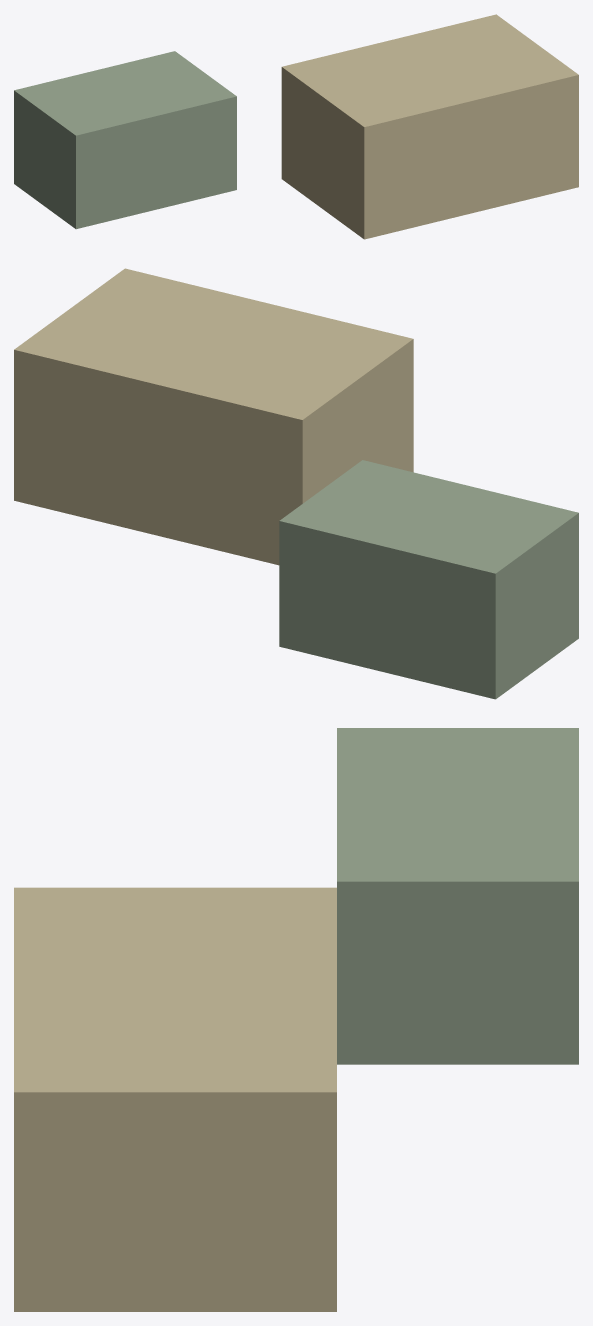
The model's file is caixas_pesca_1975.glb.
3 renders of one model, top to bottom at view 1: azimuth 30°, elevation 25°; view 2: azimuth 150°, elevation 25°; view 3: azimuth 270°, elevation 25°, orthographic. The views are drawn at different scales.
Parts seen in each view (by area): view 1: Malha_0; view 2: Malha_0; view 3: Malha_0.
Boxes of the visible parts, left/top/right/bottom form: Malha_0: left=14, top=14, right=578, bottom=239; Malha_0: left=14, top=268, right=578, bottom=699; Malha_0: left=14, top=728, right=578, bottom=1311.
Bounding box in the file's own units: 2.35 × 0.6 × 1.4.
